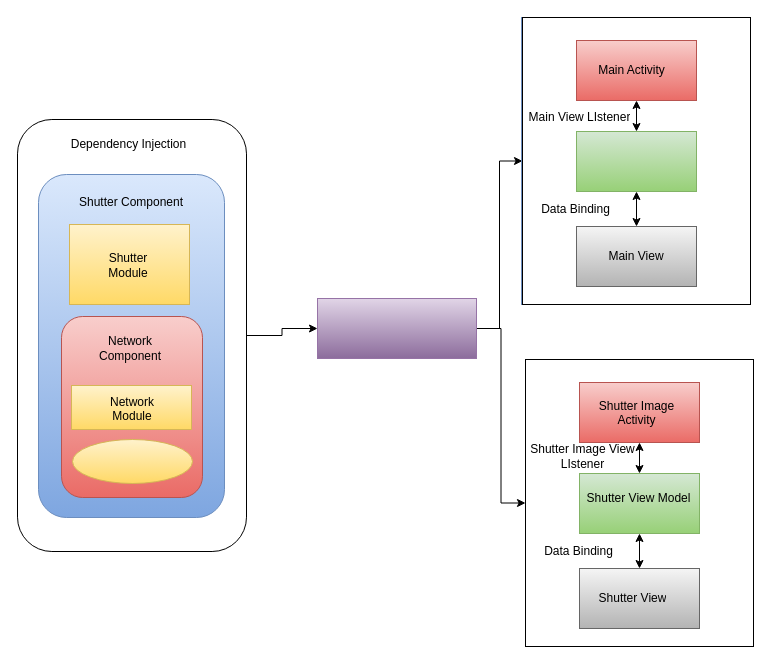
Image size: 771x664. Some labels were removed from this diagram. Here are the shapes that lost their labels. From the top down, the centre of each, then its label:
At pixel 636 161: "Main View Model".
At pixel 396 328: "Shutter Stock Application".
At pixel 132 461: "Application Module".
